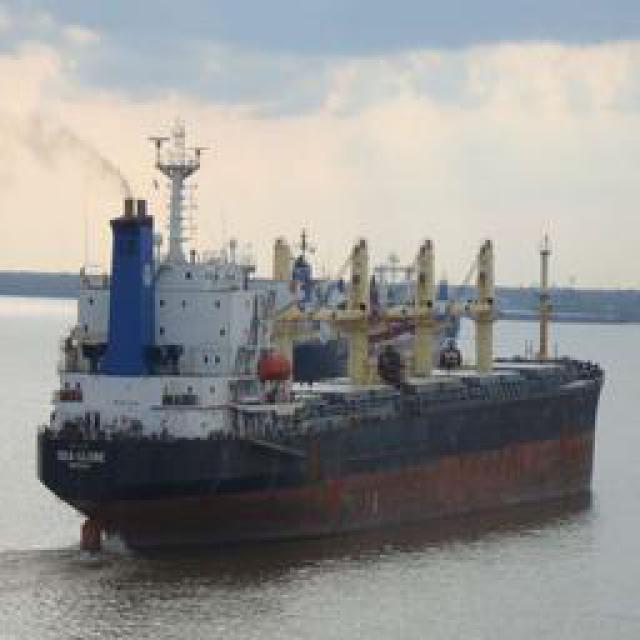Ship: (36, 183, 614, 551)
